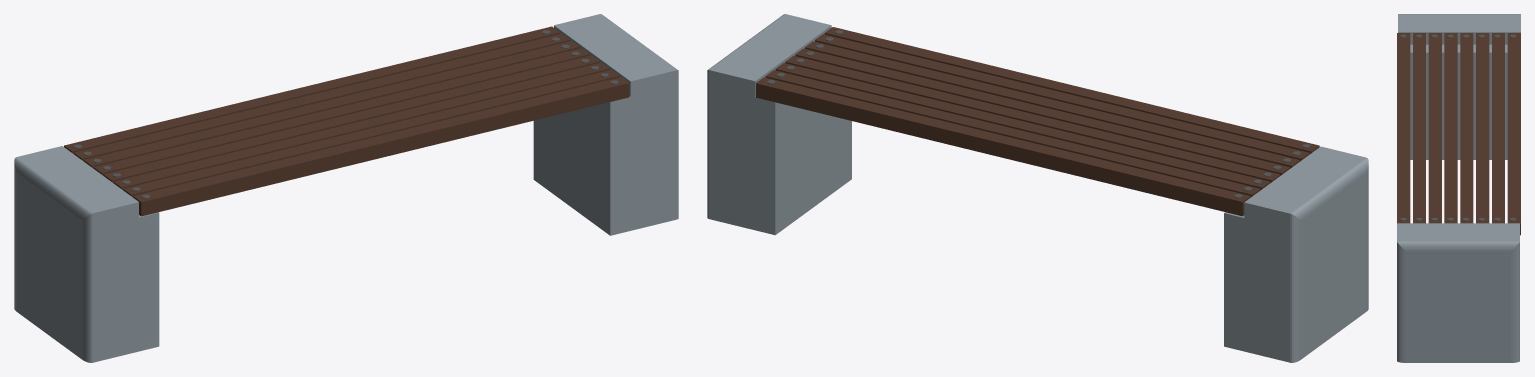
The model's file is bench.fbx.
3 views of the same model, side by side, from view 1: azimuth 30°, elevation 25°; view 2: azimuth 150°, elevation 25°; view 3: azimuth 270°, elevation 25° (orthographic). The views are drawn at different scales.
Visible parts, largest first — view 1: Cube.011, Cube.009, Cube.012; view 2: Cube.011, Cube.009, Cube.012; view 3: Cube.011, Cube.012, Cube.009, Cylinder.008, Cylinder.009.
Part boxes in pixels (x1=…): Cube.011: x1=64, y1=26, x2=629, y2=216; Cube.009: x1=14, y1=146, x2=159, y2=362; Cube.012: x1=533, y1=14, x2=678, y2=235; Cube.011: x1=756, y1=27, x2=1319, y2=216; Cube.009: x1=1224, y1=146, x2=1368, y2=362; Cube.012: x1=707, y1=14, x2=851, y2=235; Cube.011: x1=1397, y1=33, x2=1520, y2=235; Cube.012: x1=1397, y1=223, x2=1519, y2=362; Cube.009: x1=1398, y1=14, x2=1520, y2=159; Cylinder.008: x1=1400, y1=34, x2=1516, y2=37; Cylinder.009: x1=1400, y1=217, x2=1516, y2=220.
Size of the model in its own units: 831 by 202 by 188.
